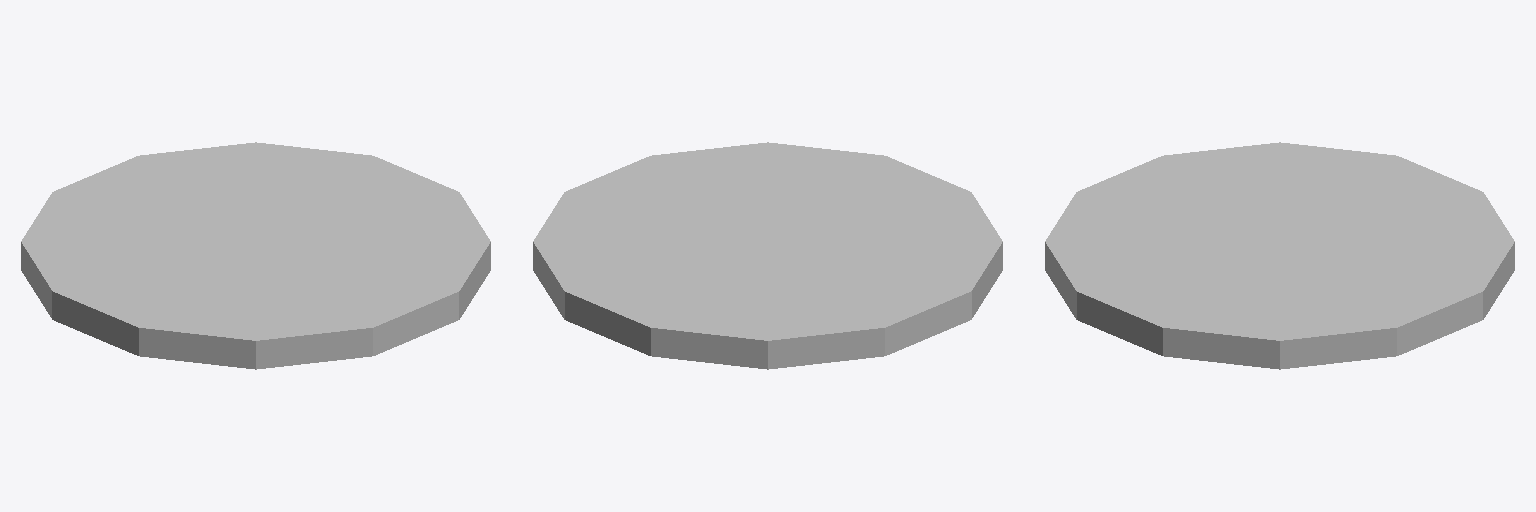
Rendered from Quarter.obj.
3 renders of one model, left to right at view 1: azimuth 30°, elevation 25°; view 2: azimuth 150°, elevation 25°; view 3: azimuth 270°, elevation 25°, orthographic.
Visible parts, largest first — view 1: Quarter; view 2: Quarter; view 3: Quarter.
Part boxes in pixels (bbox=[...]): Quarter: bbox=[21, 142, 490, 369]; Quarter: bbox=[533, 142, 1002, 369]; Quarter: bbox=[1045, 142, 1514, 369].
Bounding box in the file's own units: 1.47 × 0.099 × 1.47.